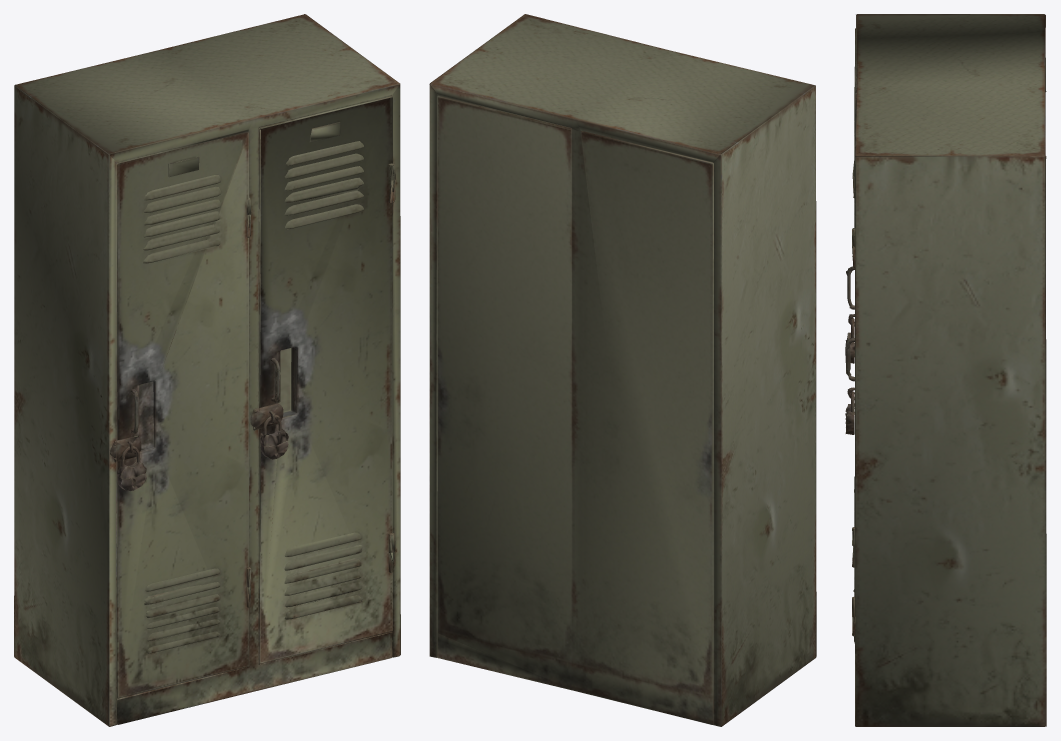
File: silo81_locker_double.glb
3 views of the same model, side by side, from view 1: azimuth 30°, elevation 25°; view 2: azimuth 150°, elevation 25°; view 3: azimuth 270°, elevation 25° (orthographic).
Size of the model in its own units: 0.5078 by 0.9512 by 0.3042.
Materials: 1 (1 with a texture image).
